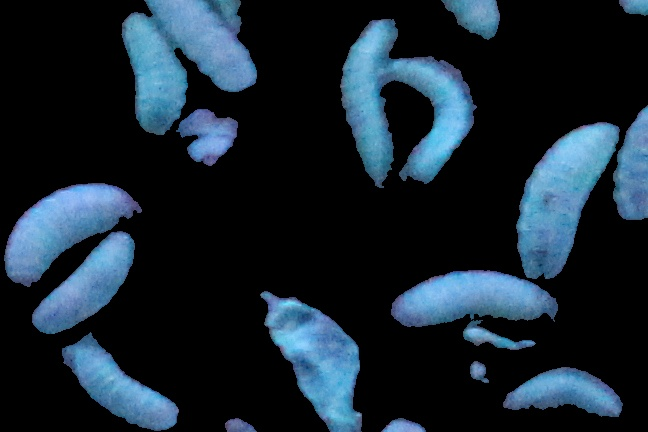larvae: (519, 121, 619, 280), (1, 183, 140, 287), (385, 55, 476, 182), (64, 337, 185, 430), (30, 231, 136, 335), (146, 1, 265, 89), (390, 269, 562, 328), (343, 15, 399, 185), (119, 14, 189, 135), (502, 366, 625, 418), (616, 104, 648, 220), (441, 1, 501, 42)
